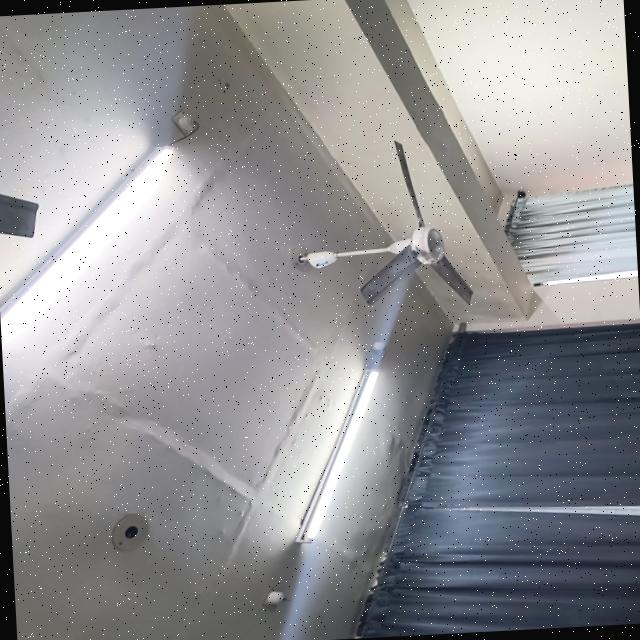Light: (0, 146, 173, 336), (294, 306, 398, 543)
